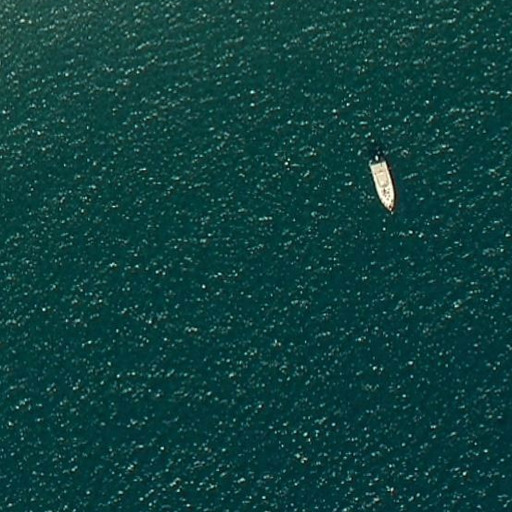ship: (366, 153, 400, 216)
